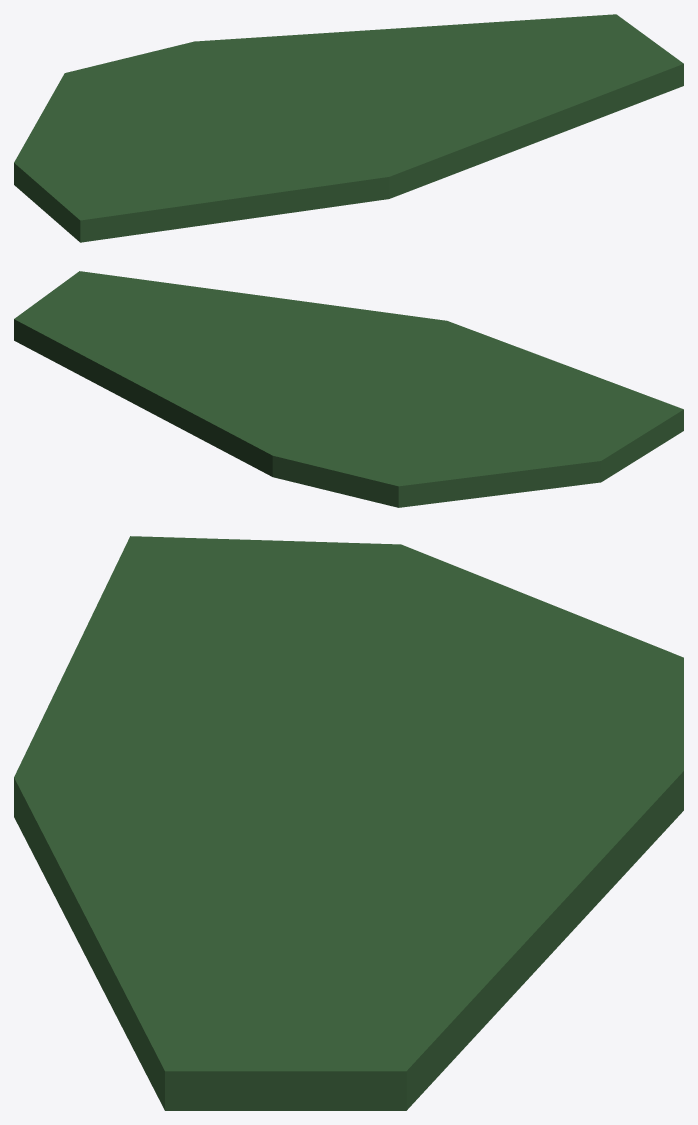
File: x_proval_00_218_1_rmstrd.fbx
3 renders of one model, top to bottom at view 1: azimuth 30°, elevation 25°; view 2: azimuth 150°, elevation 25°; view 3: azimuth 270°, elevation 25°, orthographic. The views are drawn at different scales.
Visible parts, largest first — view 1: x_proval_00_218_1_rmstrd1; view 2: x_proval_00_218_1_rmstrd1; view 3: x_proval_00_218_1_rmstrd1.
Part boxes in pixels (bbox=[...]): x_proval_00_218_1_rmstrd1: bbox=[14, 14, 683, 242]; x_proval_00_218_1_rmstrd1: bbox=[14, 271, 683, 507]; x_proval_00_218_1_rmstrd1: bbox=[14, 536, 683, 1110].
Bounding box in the file's own units: 5.79 × 0.2 × 3.06.
